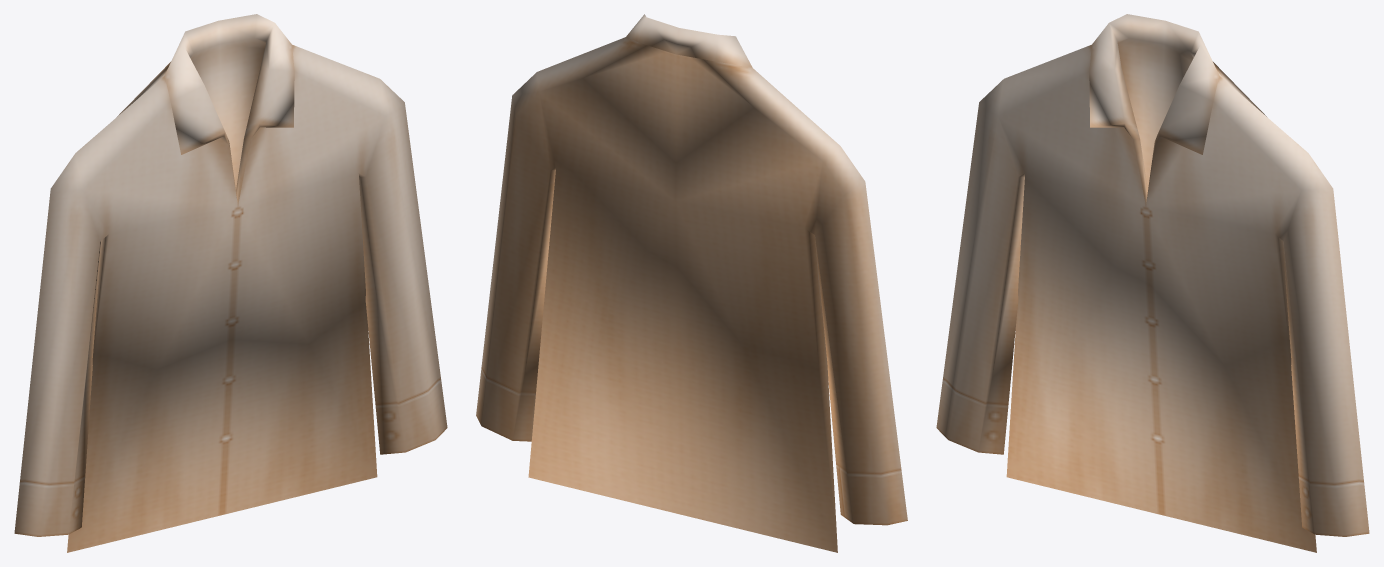
The model's file is G_DanShenHan_yifu_01.FBX.
The picture shows the model from 3 angles, left to right: view 1: azimuth 30°, elevation 25°; view 2: azimuth 150°, elevation 25°; view 3: azimuth 330°, elevation 25°; orthographic projection.
Parts seen in each view (by area): view 1: DanShenHan_yifu_01; view 2: DanShenHan_yifu_01; view 3: DanShenHan_yifu_01.
Part boxes in pixels (bbox=[...]): DanShenHan_yifu_01: bbox=[14, 14, 447, 552]; DanShenHan_yifu_01: bbox=[476, 14, 907, 552]; DanShenHan_yifu_01: bbox=[936, 14, 1369, 552].
Size of the model in its own units: 124 by 134 by 13.74.
